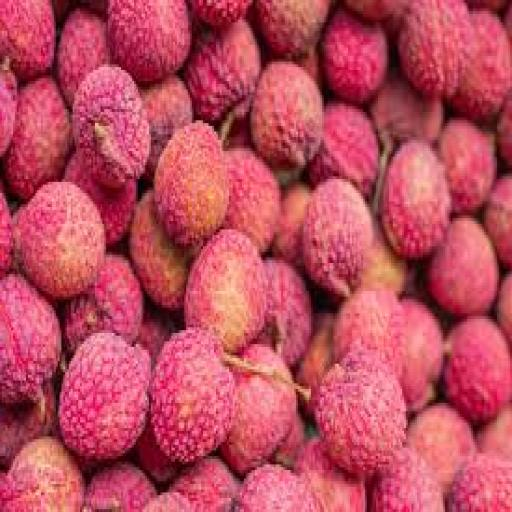lychee: (148, 328, 233, 464), (314, 350, 406, 475), (59, 331, 149, 458), (16, 182, 105, 299), (184, 230, 265, 352), (72, 65, 149, 187), (154, 121, 228, 246), (301, 180, 373, 296), (5, 76, 71, 201), (381, 140, 449, 260), (219, 370, 295, 475), (249, 62, 322, 170), (61, 255, 142, 352), (184, 20, 259, 123), (0, 275, 60, 402), (128, 191, 190, 310), (398, 0, 473, 97), (426, 216, 497, 316), (444, 317, 511, 422), (63, 152, 136, 246), (106, 0, 188, 83), (450, 9, 511, 120), (309, 104, 378, 195), (333, 289, 404, 377), (320, 9, 386, 103), (407, 403, 475, 492), (1, 437, 82, 511), (225, 149, 278, 254), (437, 118, 494, 212), (370, 73, 443, 145), (141, 76, 192, 179), (55, 9, 108, 106), (294, 440, 365, 511), (264, 261, 311, 366), (368, 448, 443, 511), (400, 300, 442, 411), (0, 384, 54, 467), (0, 0, 54, 81), (255, 0, 330, 58), (236, 465, 321, 511), (446, 454, 511, 511), (171, 457, 237, 511), (83, 462, 155, 511), (271, 182, 309, 268), (359, 224, 406, 293), (296, 314, 334, 394), (134, 420, 177, 484), (482, 177, 511, 268), (135, 303, 175, 366), (476, 406, 511, 461), (271, 412, 304, 467), (189, 0, 250, 27), (0, 65, 17, 156), (344, 0, 404, 22), (495, 272, 511, 346), (497, 96, 511, 170), (0, 194, 12, 279), (141, 493, 192, 511)
